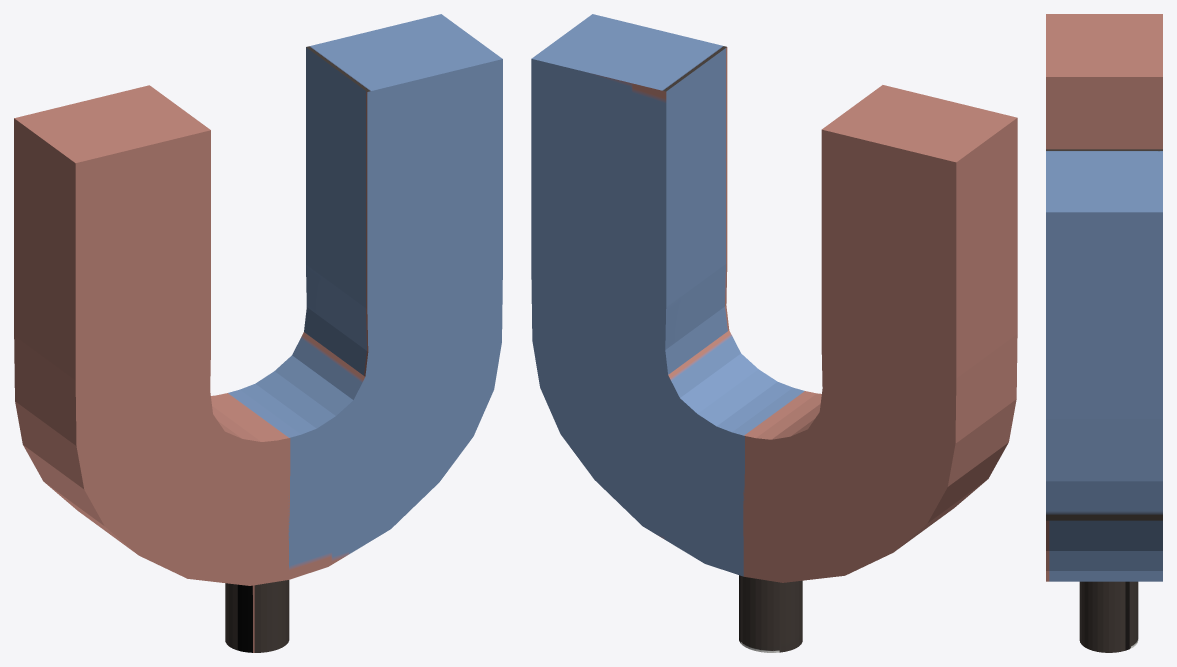
Rendered from playerMagnet.obj.
3 views of the same model, side by side, from view 1: azimuth 30°, elevation 25°; view 2: azimuth 150°, elevation 25°; view 3: azimuth 270°, elevation 25° (orthographic). The views are drawn at different scales.
Visible parts, largest first — view 1: 立方体.003_立方体.010, 立方体_立方体.009, 円柱_円柱.001; view 2: 立方体.003_立方体.010, 立方体_立方体.009, 円柱_円柱.001; view 3: 立方体.003_立方体.010, 立方体_立方体.009, 円柱_円柱.001.
Boxes of the visible parts, left/top/right/bottom form: 立方体.003_立方体.010: left=228, top=14, right=502, bottom=579; 立方体_立方体.009: left=14, top=85, right=290, bottom=585; 円柱_円柱.001: left=225, top=580, right=289, bottom=652; 立方体.003_立方体.010: left=531, top=14, right=804, bottom=576; 立方体_立方体.009: left=743, top=85, right=1017, bottom=582; 円柱_円柱.001: left=739, top=575, right=802, bottom=652; 立方体.003_立方体.010: left=1046, top=149, right=1162, bottom=581; 立方体_立方体.009: left=1046, top=14, right=1162, bottom=149; 円柱_円柱.001: left=1079, top=581, right=1138, bottom=652.
Bounding box in the file's own units: 1.41 × 1.75 × 0.3523.
1 material, 1 textured.
